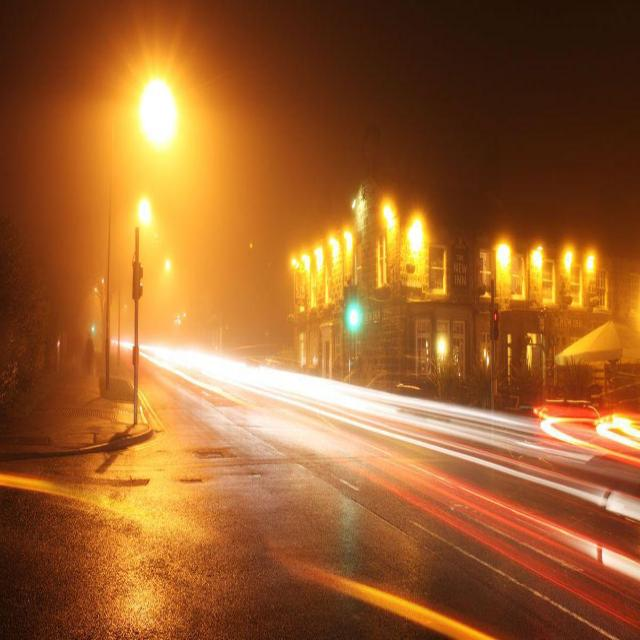other: (278, 191, 441, 301), (122, 55, 198, 244), (487, 216, 606, 305), (532, 374, 634, 459)
